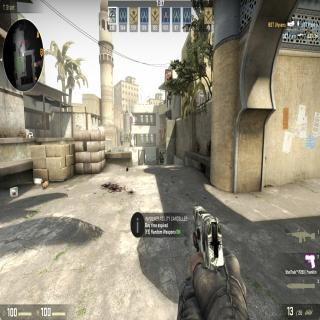CT-Body: (158, 152, 164, 165)
CT-Head: (159, 152, 161, 156)
